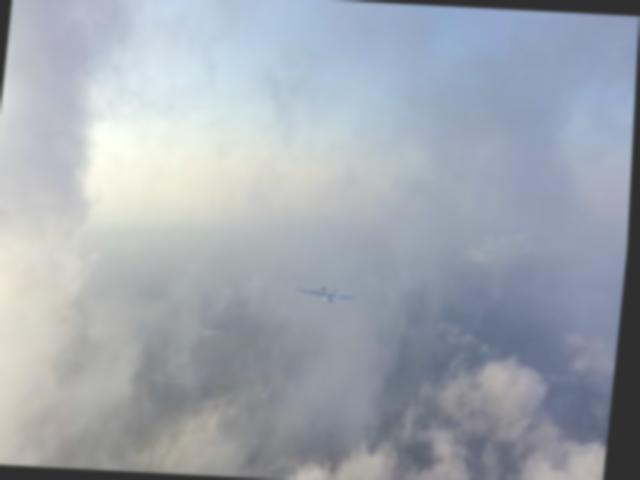uav: (296, 280, 363, 308)
